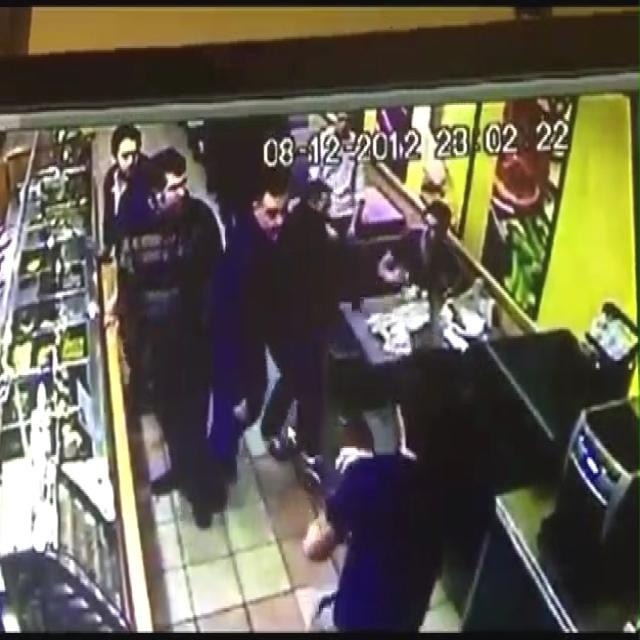fight: (218, 164, 443, 640)
